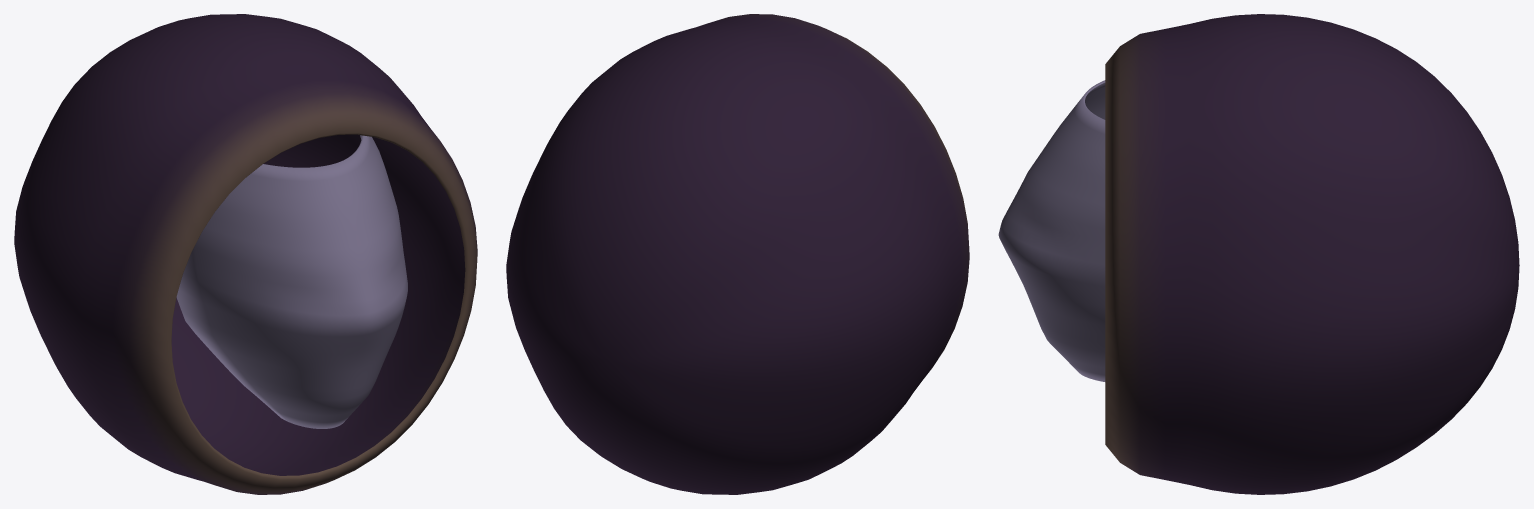
File: wuling-head.glb
3 renders of one model, left to right at view 1: azimuth 30°, elevation 25°; view 2: azimuth 150°, elevation 25°; view 3: azimuth 270°, elevation 25°, orthographic. The views are drawn at different scales.
Parts seen in each view (by area): view 1: SM_Hero_wuling_DrapedHood_A, SM_Hero_wuling_FullMask_A; view 2: SM_Hero_wuling_DrapedHood_A; view 3: SM_Hero_wuling_DrapedHood_A, SM_Hero_wuling_FullMask_A.
Part boxes in pixels (<box>): SM_Hero_wuling_DrapedHood_A: <box>14,14,477,494</box>; SM_Hero_wuling_FullMask_A: <box>176,135,407,428</box>; SM_Hero_wuling_DrapedHood_A: <box>506,14,969,494</box>; SM_Hero_wuling_DrapedHood_A: <box>1105,14,1519,494</box>; SM_Hero_wuling_FullMask_A: <box>998,80,1105,381</box>.
Bounding box in the file's own units: 0.333 × 0.3557 × 0.381.
